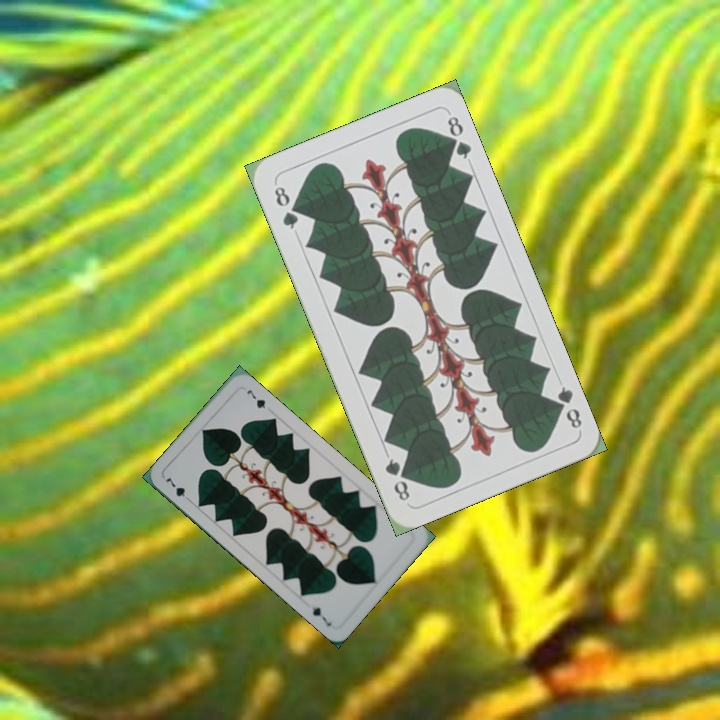G7: (160, 474, 194, 505)
G8: (549, 382, 585, 431), (270, 179, 301, 232)
